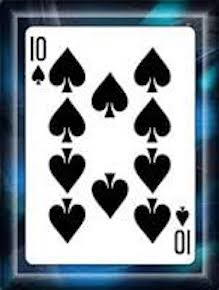TenOfSpades: (17, 22, 202, 273)
